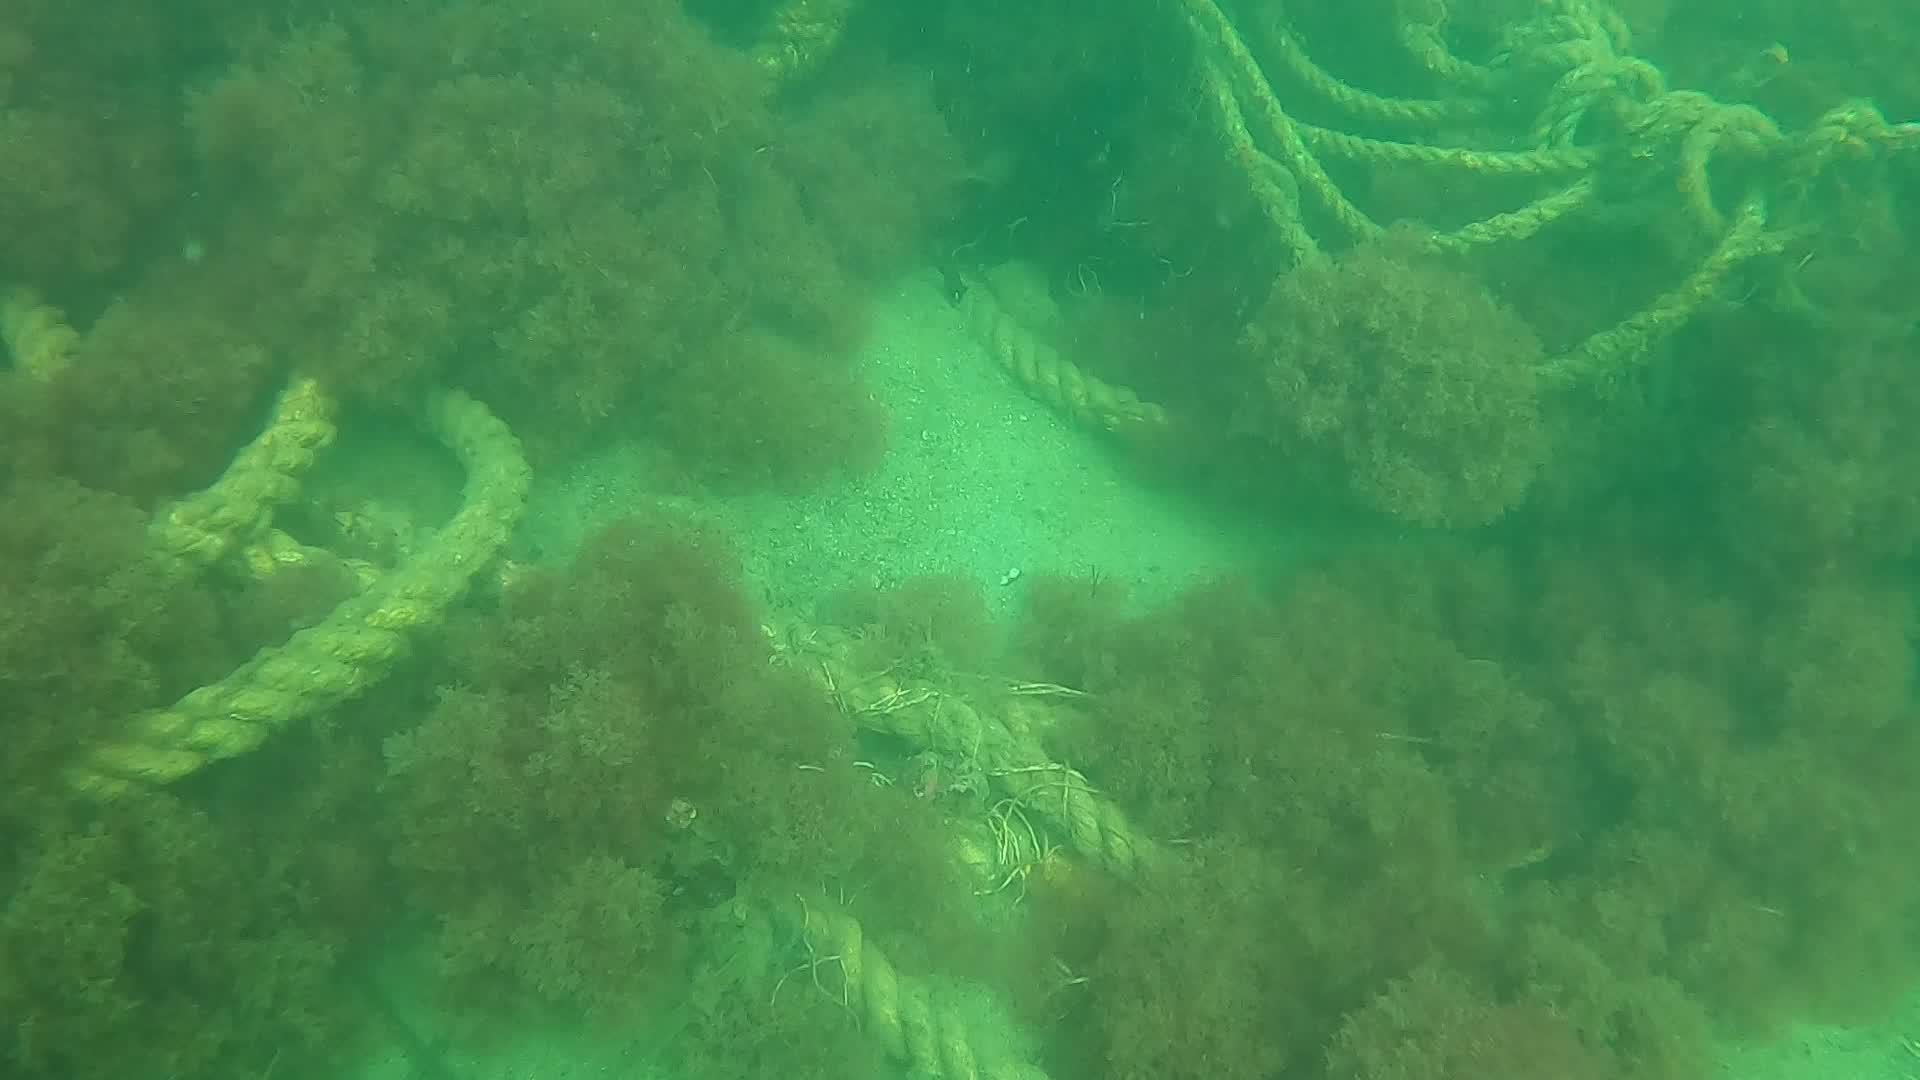bundle of ropes: (938, 0, 1920, 487), (0, 229, 533, 825), (679, 571, 1245, 1080)
